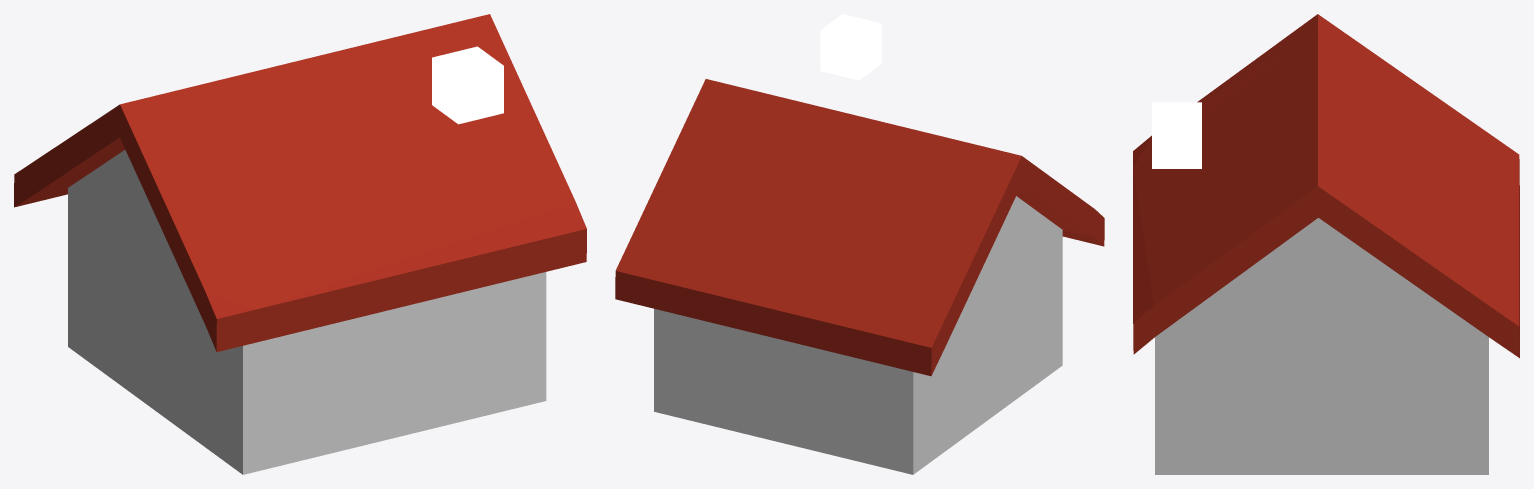
The model's file is home-transformed.glb.
3 views of the same model, side by side, from view 1: azimuth 30°, elevation 25°; view 2: azimuth 150°, elevation 25°; view 3: azimuth 270°, elevation 25° (orthographic). The views are drawn at different scales.
Parts seen in each view (by area): view 1: Home, Smart; view 2: Home, Smart; view 3: Home, Smart.
Part boxes in pixels (<box>): Home: <box>14,14,586,474</box>; Smart: <box>432,46,503,124</box>; Home: <box>615,79,1104,474</box>; Smart: <box>820,14,881,80</box>; Home: <box>1133,14,1519,474</box>; Smart: <box>1152,102,1201,168</box>.
Bounding box in the file's own units: 2.44 × 2.19 × 2.32.
